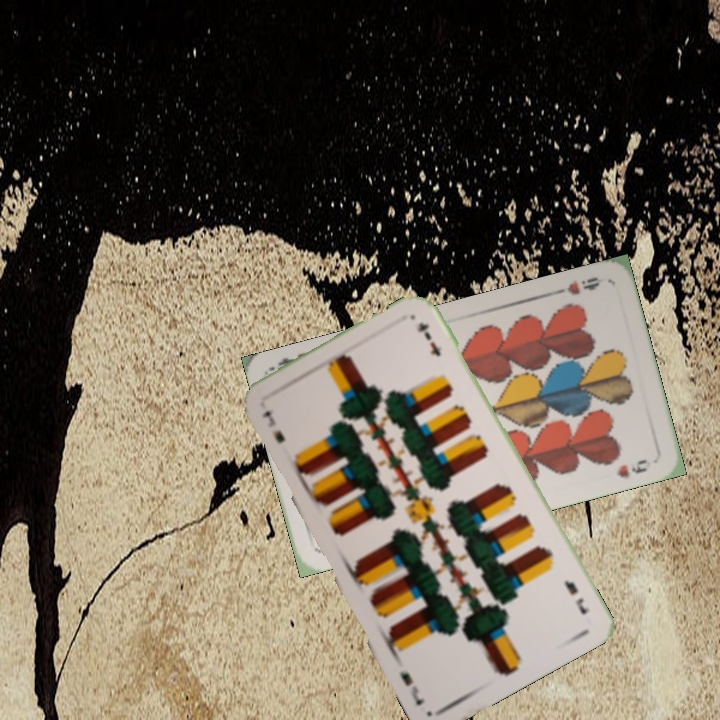E7: (560, 576, 592, 617), (258, 407, 288, 446)
H9: (549, 273, 605, 298)
